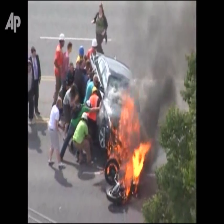fire_h: (107, 96, 150, 196)
fire_l: (107, 163, 117, 175)
